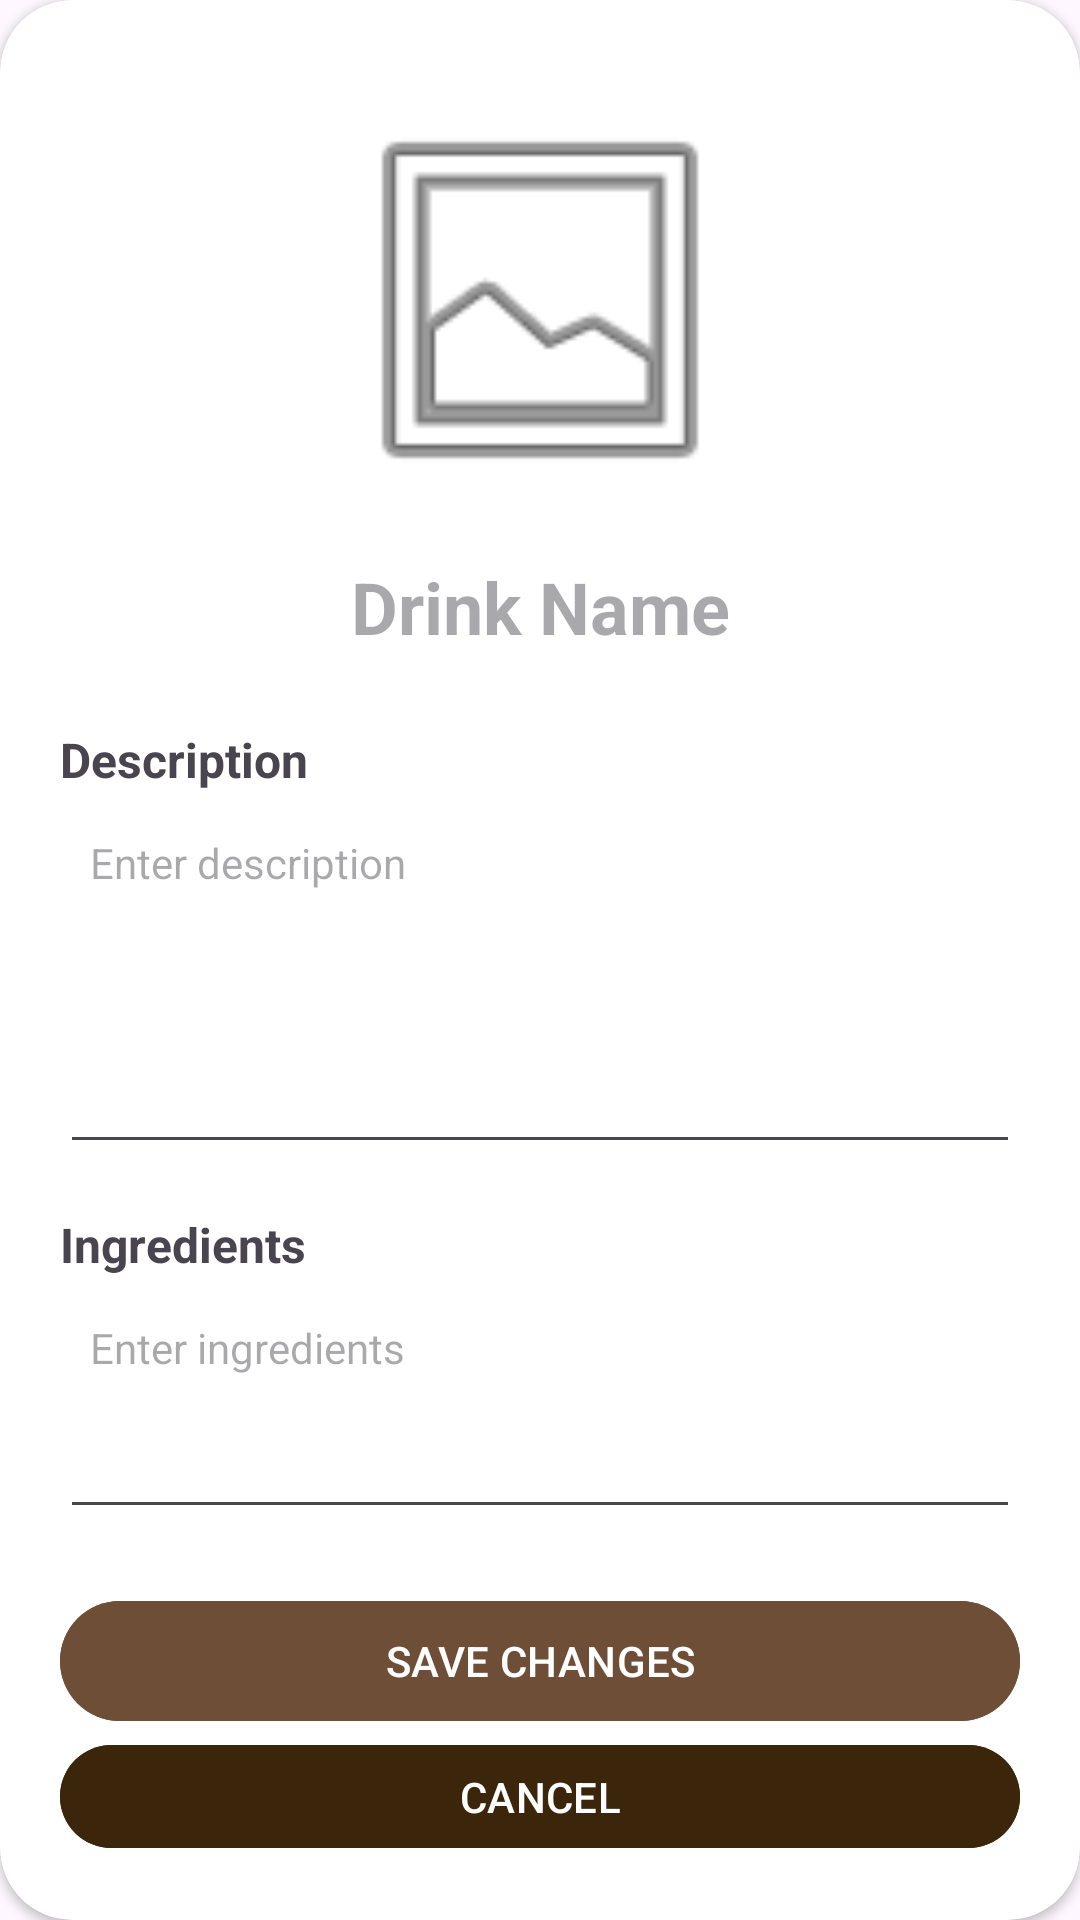

Icons on this 1080*1920 Android screen, each with the point to tap as point (x, y):
gallery: point (540, 300)
